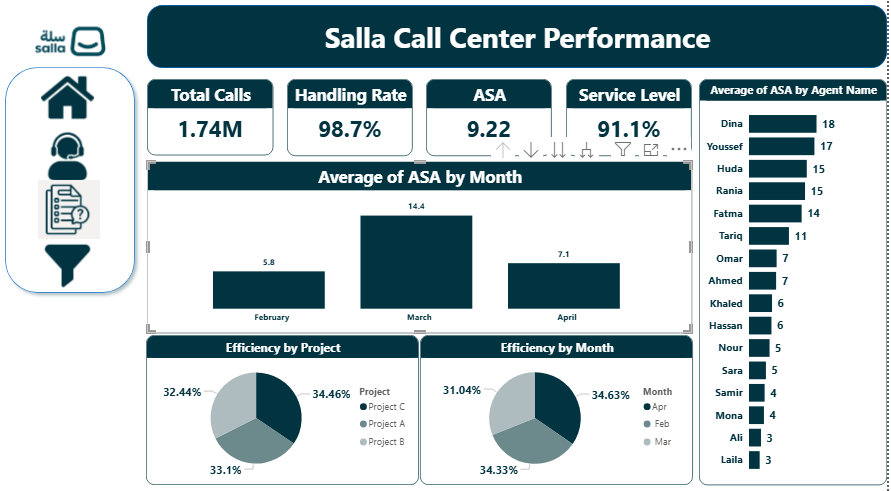

This screenshot's page, from the dashboard's own definition file:
{"tool":"powerbi","page":{"name":"OverView","canvas":[1280,720],"ordinal":1},"visuals":[{"type":"shape","box":[214.6,13,1065.6,90.7],"z":0},{"type":"shape","box":[1.4,93.6,204.5,342.7],"z":1000},{"type":"actionButton","box":[38.5,0,166.5,130.8],"z":3000},{"type":"clusteredBarChart","fields":{"Y":["Avg(Sallah Project.ASA)"],"Category":["Sallah Project.Agent Name"]},"box":[1009.4,119.5,270.7,584.6],"z":4000},{"type":"card","title":"Total Calls","fields":{"Values":["Sum(Sallah Project.Calls Offered)"]},"box":[214.7,119.5,181.7,110.1],"z":5000},{"type":"card","title":"Handling Rate","fields":{"Values":["Sallah Project.Handling Rate"]},"box":[415.9,119.1,181.4,110.9],"z":6000},{"type":"card","title":"ASA","fields":{"Values":["Avg(Sallah Project.ASA)"]},"box":[616.9,119.1,181.4,110.9],"z":7000},{"type":"card","title":"Service Level","fields":{"Values":["Sallah Project.Service Level"]},"box":[817.9,119.1,181.4,110.9],"z":8000},{"type":"clusteredColumnChart","fields":{"Y":["Avg(Sallah Project.ASA)"],"Category":["Sallah Project.Date.Variation.Date Hierarchy.Month","Sallah Project.Day Name"]},"box":[214.6,237.6,784.8,247.7],"z":9000},{"type":"pieChart","title":"Efficiency by Project","fields":{"Y":["Sallah Project.efficiency"],"Category":["Sallah Project.Project"]},"box":[213.1,488.2,393.1,216],"z":10000},{"type":"pieChart","title":"Efficiency by Month","fields":{"Y":["Sallah Project.efficiency"],"Category":["Sallah Project.Month"]},"box":[607.7,488.2,393.1,216],"z":11000},{"type":"actionButton","title":"Salla Call Center Performance","box":[226.1,31.7,1044,69.1],"z":12000},{"type":"actionButton","box":[57.6,103.7,89.3,85],"z":13000},{"type":"actionButton","box":[57.6,188.6,89.3,85],"z":14000},{"type":"actionButton","box":[57.6,265,89.3,85],"z":15000},{"type":"actionButton","box":[57.6,344.2,89.3,85],"z":16000}]}

Visuals, with their boxes in screenshot pixels (x1, y1, x2, y2), scaled from the page's 1280x720 canvas onto the 891x491 screenshot:
shape: (149, 9, 890, 71)
shape: (1, 64, 143, 298)
actionButton: (27, 0, 143, 89)
clusteredBarChart - Avg(Sallah Project.ASA) x Sallah Project.Agent Name: (703, 81, 890, 480)
"Total Calls" card: (149, 81, 276, 157)
"Handling Rate" card: (290, 81, 416, 157)
"ASA" card: (429, 81, 556, 157)
"Service Level" card: (569, 81, 696, 157)
clusteredColumnChart - Avg(Sallah Project.ASA) x Sallah Project.Date.Variation.Date Hierarchy.Month: (149, 162, 696, 331)
"Efficiency by Project" pieChart: (148, 333, 422, 480)
"Efficiency by Month" pieChart: (423, 333, 697, 480)
"Salla Call Center Performance" actionButton: (157, 22, 884, 69)
actionButton: (40, 71, 102, 129)
actionButton: (40, 129, 102, 187)
actionButton: (40, 181, 102, 239)
actionButton: (40, 235, 102, 293)
